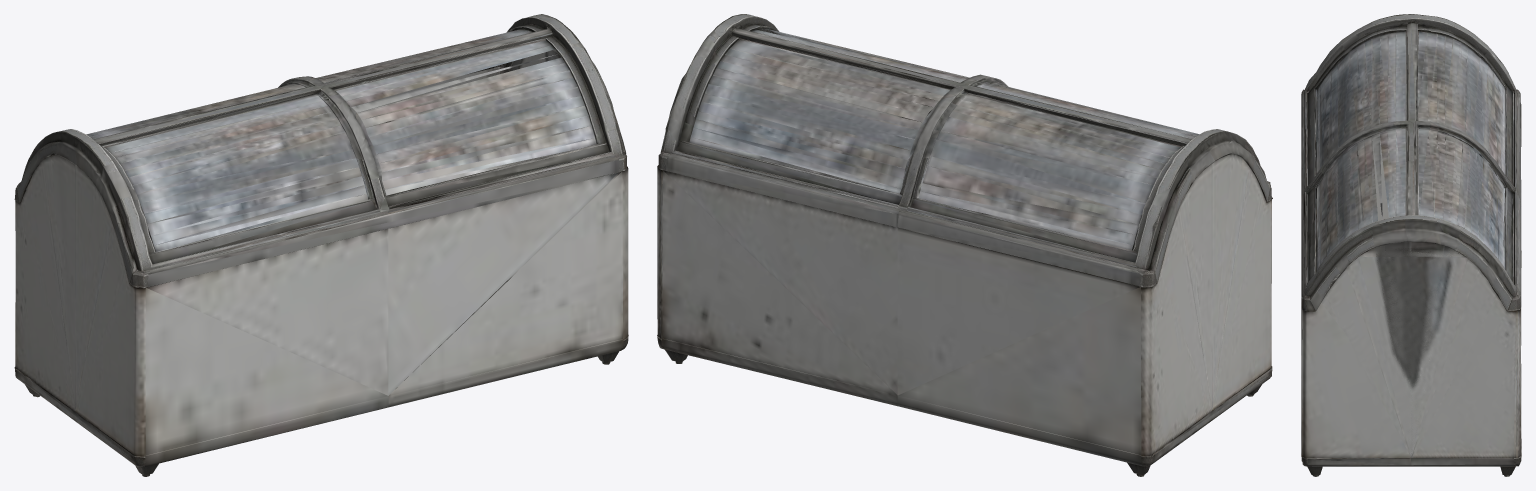
File: p7-chest-freezer-t25.glb
The picture shows the model from 3 angles, left to right: view 1: azimuth 30°, elevation 25°; view 2: azimuth 150°, elevation 25°; view 3: azimuth 270°, elevation 25°; orthographic projection. The views are drawn at different scales.
Visible parts, largest first — view 1: p7-chest-freezer-t25; view 2: p7-chest-freezer-t25; view 3: p7-chest-freezer-t25.
Boxes of the visible parts, x1,y1,x2,y2 form: p7-chest-freezer-t25: (14,14,628,476); p7-chest-freezer-t25: (657,14,1272,476); p7-chest-freezer-t25: (1301,14,1521,476).
Size of the model in its own units: 1.48 by 0.85 by 0.65.
Materials: 1 (1 with a texture image).
